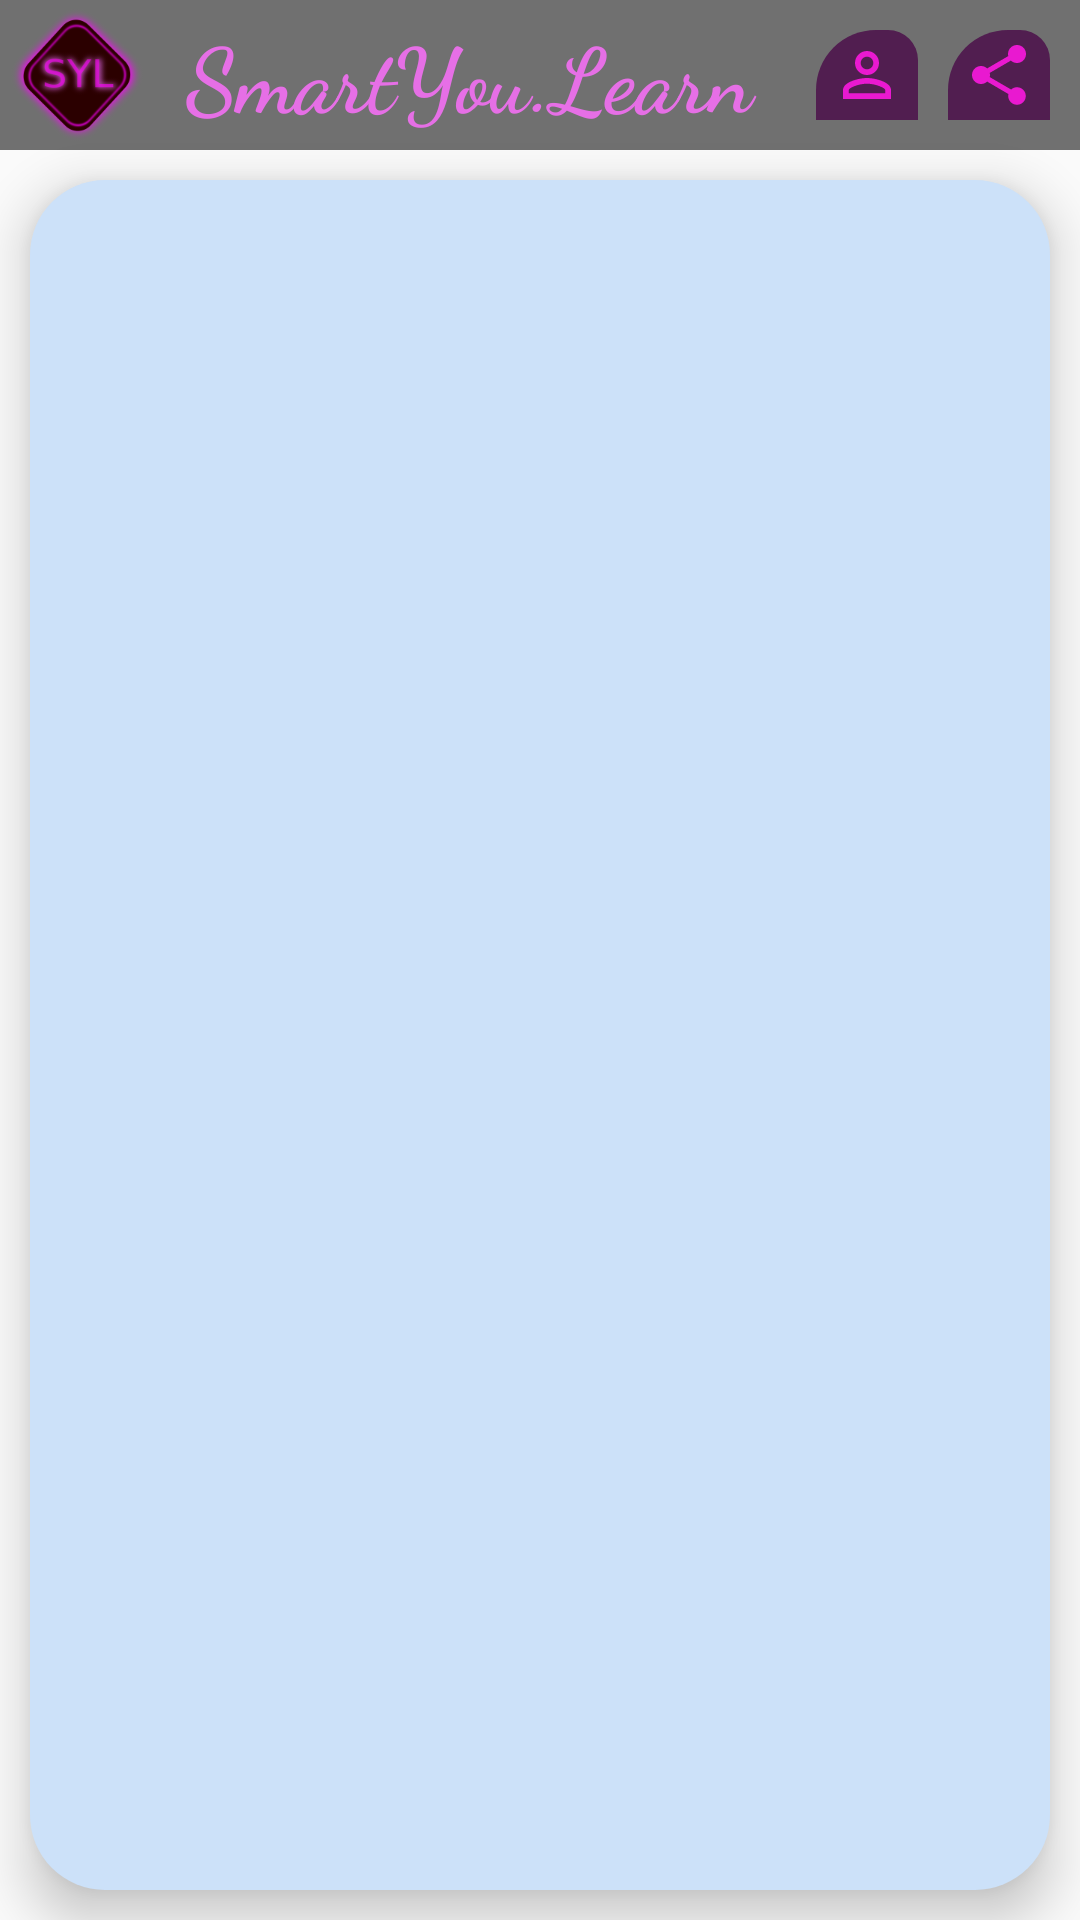

Where icons sit on this 1080*1920 app screen, as bbox=[x1, y1, x2, y2]:
person: bbox=[816, 30, 918, 120]
share: bbox=[948, 30, 1050, 120]
